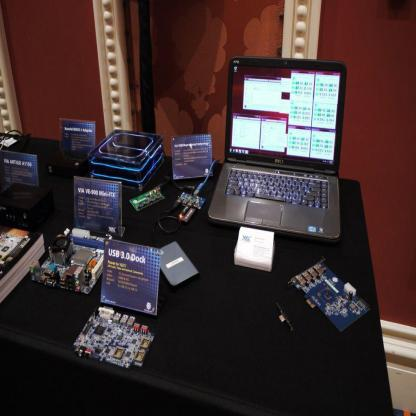board: (209, 48, 345, 256)
